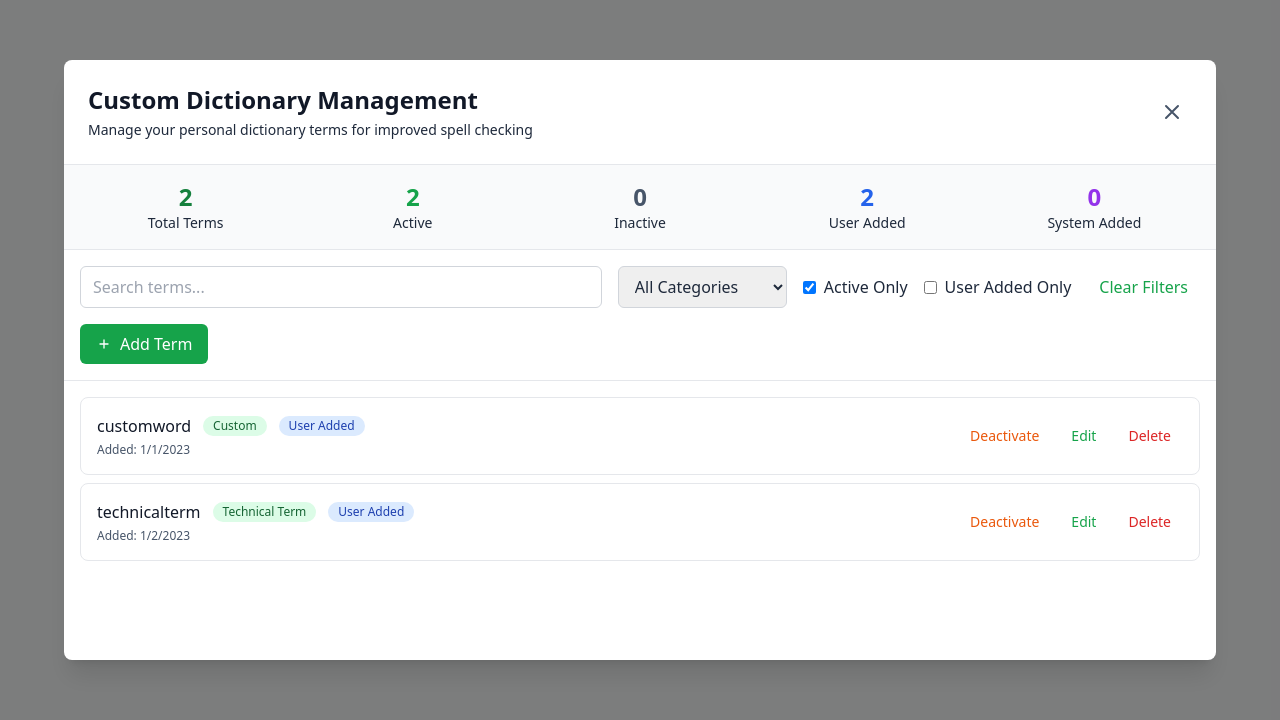
Test: DictionaryManager › Editing Terms › shows edit form when edit button is clicked
Click the button "Edit" in the row of "customword". click: (1084, 436)
box: left=1059, top=422, right=1108, bottom=450
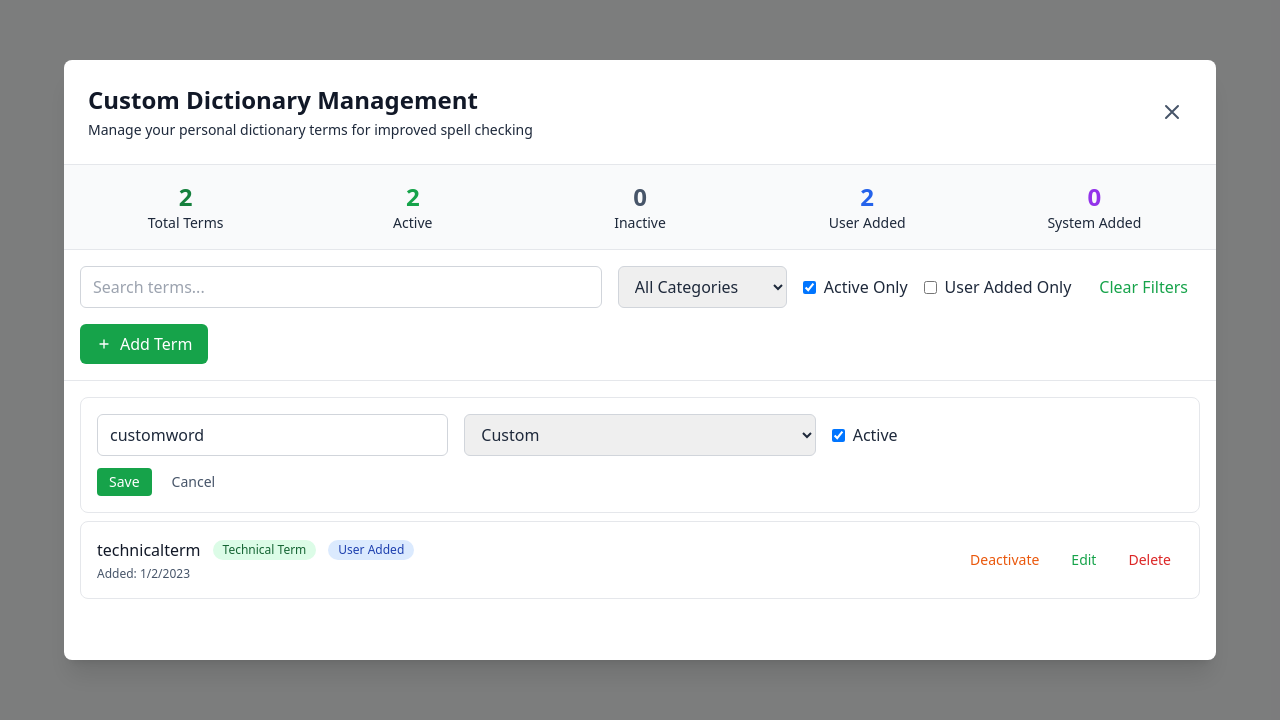
Check: the field showing "customword" is shown, box left=97, top=414, right=448, bottom=456
